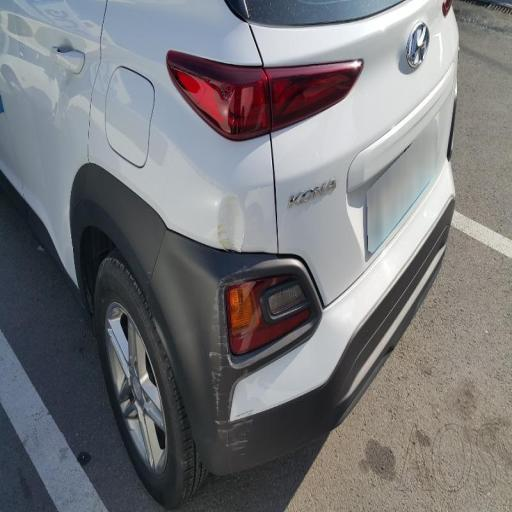dent: (180, 126, 262, 282), (309, 142, 402, 278)
scratch: (9, 18, 128, 172), (179, 294, 277, 462)
